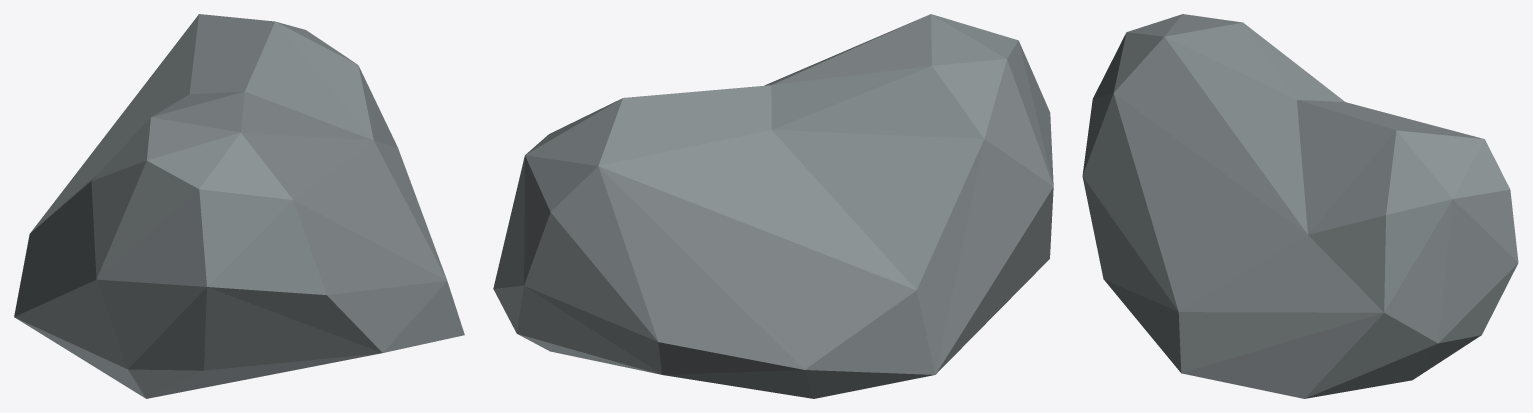
File: Stone_L.fbx
The picture shows the model from 3 angles, left to right: view 1: azimuth 30°, elevation 25°; view 2: azimuth 150°, elevation 25°; view 3: azimuth 270°, elevation 25°; orthographic projection. The views are drawn at different scales.
Parts seen in each view (by area): view 1: Stone_L; view 2: Stone_L; view 3: Stone_L.
Part boxes in pixels (left/top/right/bottom): Stone_L: left=14, top=14, right=464, bottom=398; Stone_L: left=493, top=14, right=1053, bottom=398; Stone_L: left=1082, top=14, right=1518, bottom=398.
Bounding box in the file's own units: 105 × 67.41 × 108.
